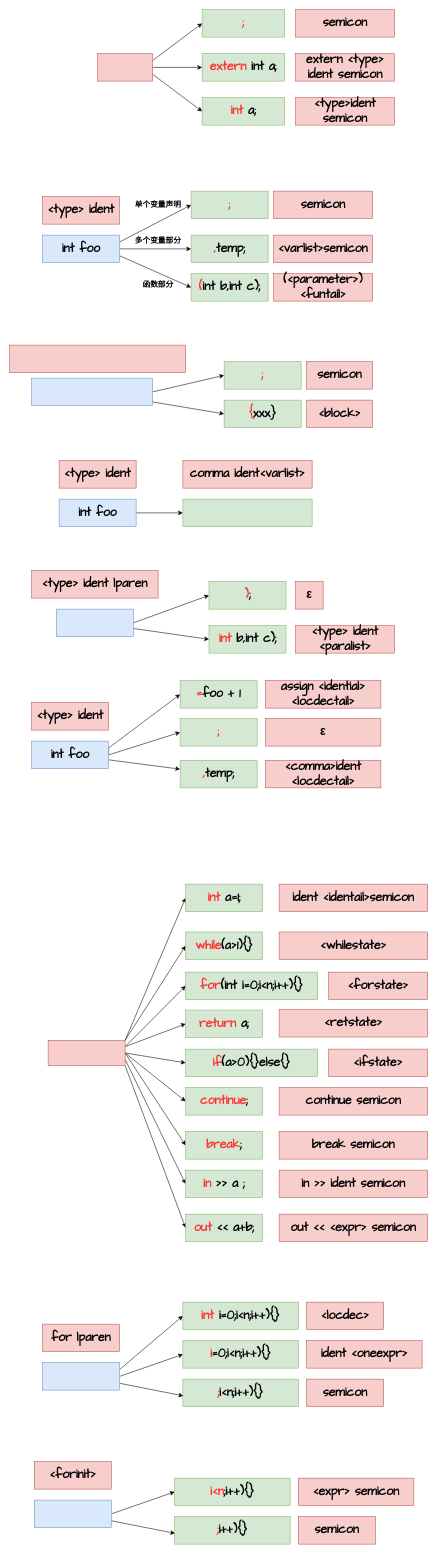
This 437x1554 diagram has some shape labels left out. The centre of each missing label's shape, as x and y in pixels:
", tmp,tmp1,tmp2...;" goes at point (247, 513).
"<dec>" goes at point (125, 67).
"<srarement>" goes at point (86, 1053).
"<type> ident (<parameter>)" goes at point (97, 359).
"for(" goes at point (81, 1376).
"for(int i=0;" goes at point (72, 1514).
"int foo(" goes at point (94, 623).
"int foo(int a,int b)" goes at point (92, 392).
